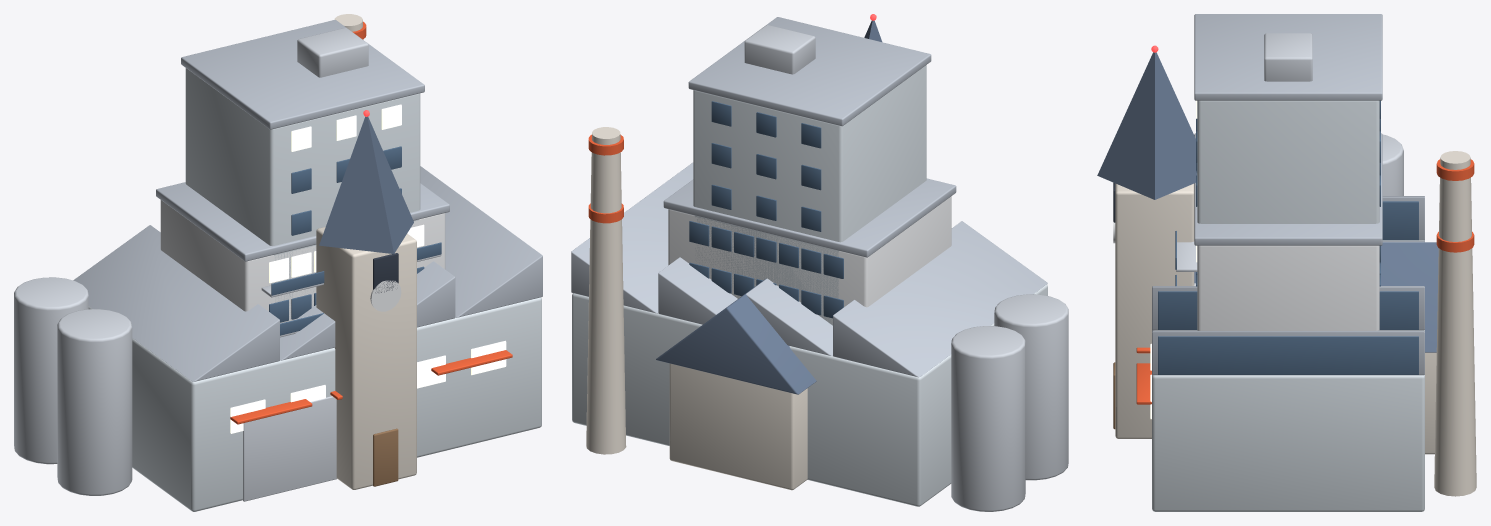
Rendered from town.glb.
The picture shows the model from 3 angles, left to right: view 1: azimuth 30°, elevation 25°; view 2: azimuth 150°, elevation 25°; view 3: azimuth 270°, elevation 25°; orthographic projection. The views are drawn at different scales.
Parts seen in each view (by area): view 1: factory_body, apartment_b_body, church_body, apartment_a_body, warehouse_body; view 2: factory_body, apartment_b_body, church_body, apartment_a_body; view 3: factory_body, apartment_b_body, church_body, apartment_a_body, warehouse_body.
Boxes of the visible parts, x1,y1,x2,y2 form: factory_body: (14, 14, 542, 511); apartment_b_body: (181, 20, 424, 322); church_body: (316, 116, 416, 489); apartment_a_body: (156, 182, 449, 337); warehouse_body: (230, 350, 512, 424); factory_body: (571, 127, 1068, 511); apartment_b_body: (688, 17, 931, 325); church_body: (656, 20, 882, 490); apartment_a_body: (663, 178, 956, 324); factory_body: (1150, 134, 1476, 511); apartment_b_body: (1194, 14, 1382, 274); church_body: (1097, 52, 1438, 454); apartment_a_body: (1175, 133, 1382, 330); warehouse_body: (1136, 347, 1151, 404).
Bounding box in the file's own units: 16.98 × 14.3 × 12.5.
